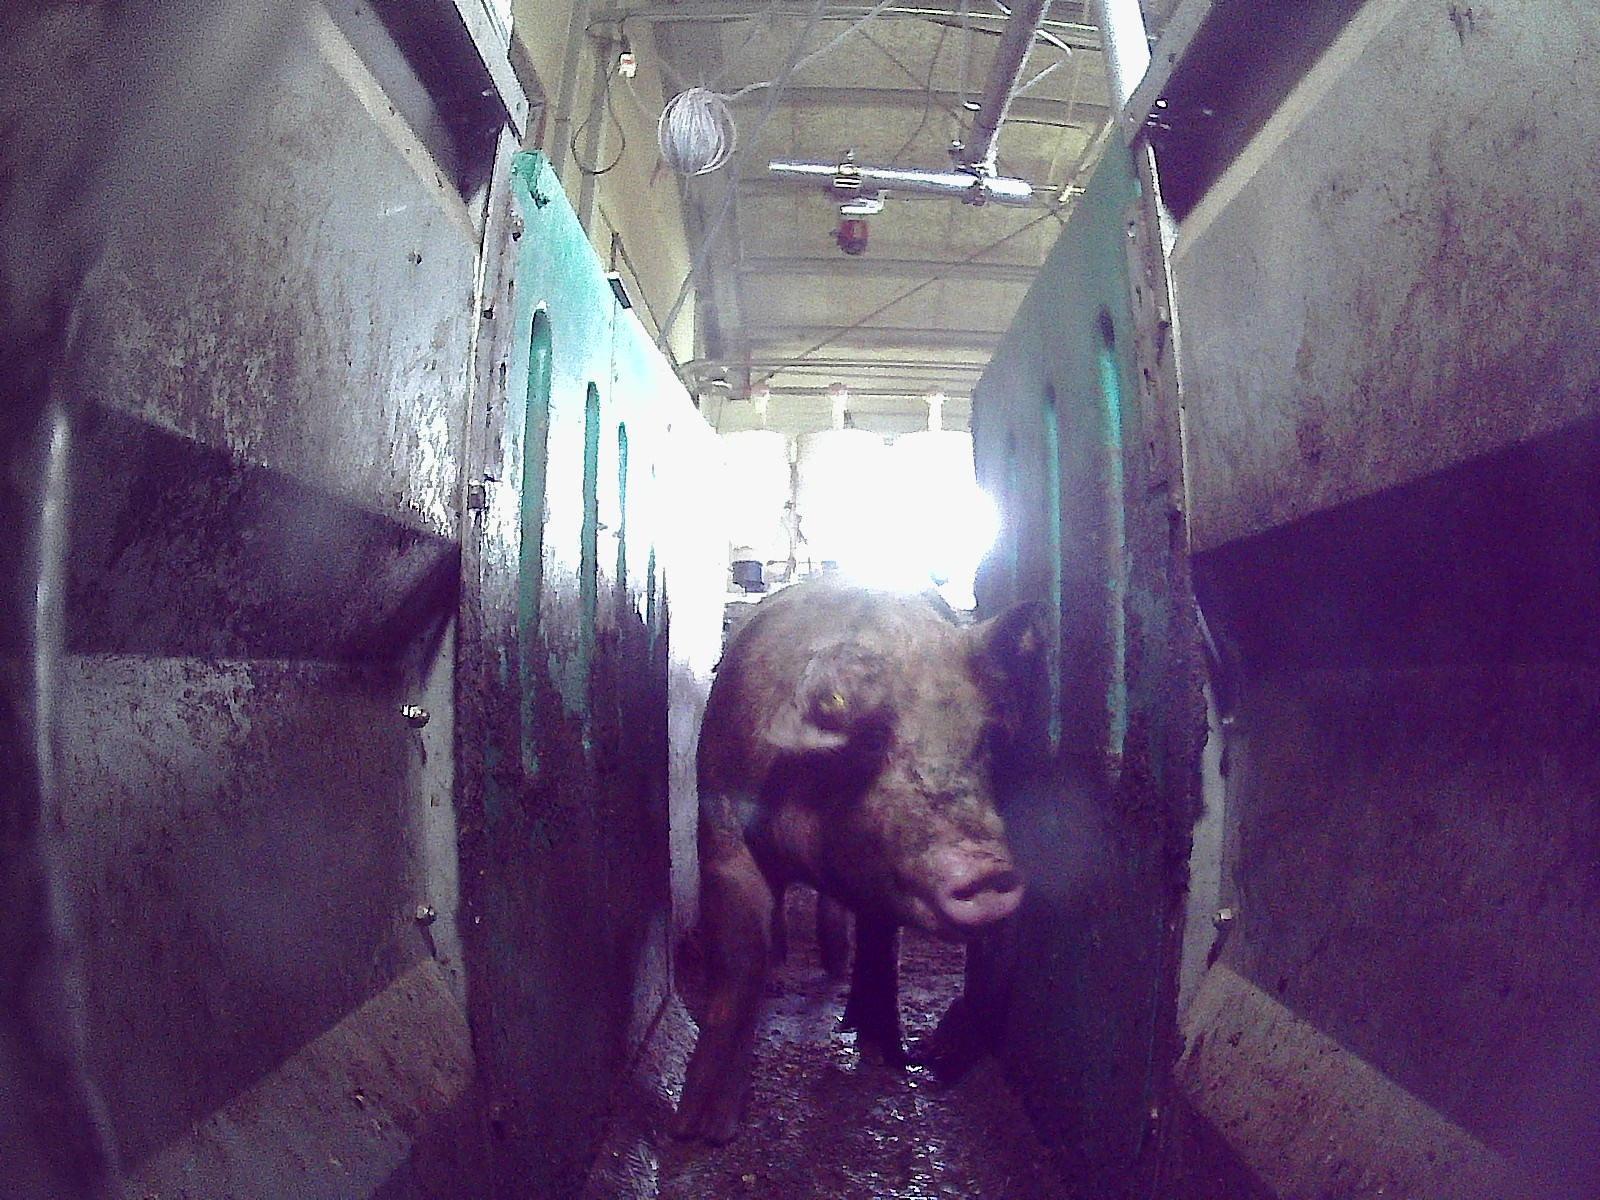Face: (796, 654, 1023, 938)
